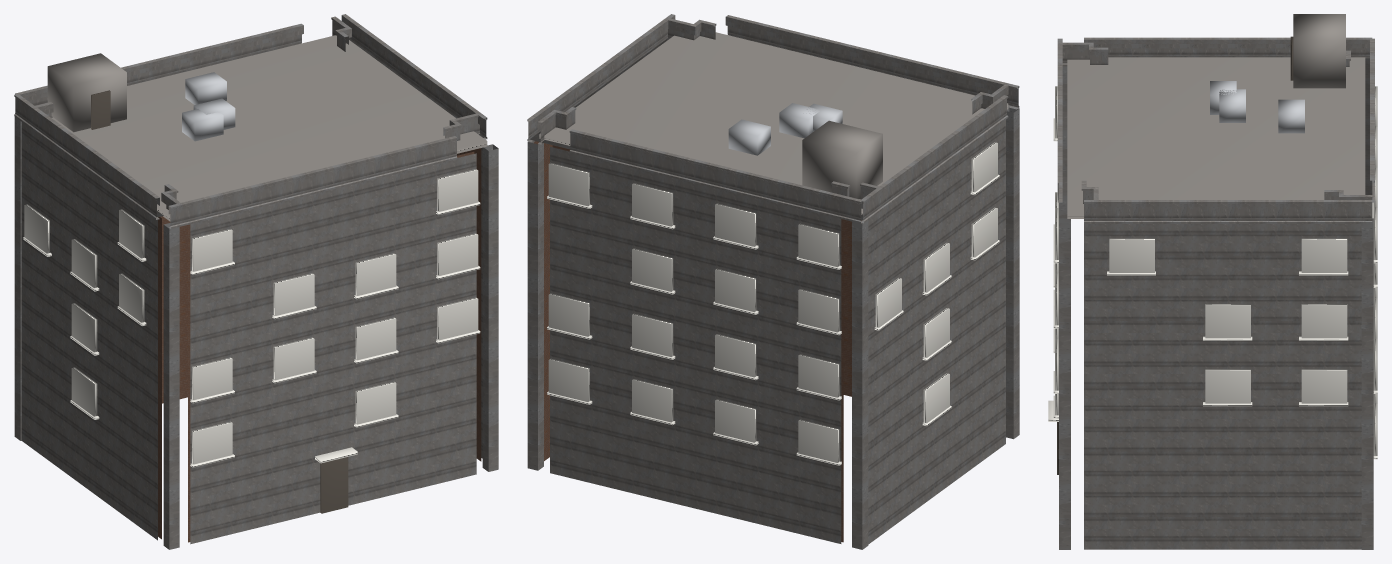
The model's file is b_tower3.gltf.
3 views of the same model, side by side, from view 1: azimuth 30°, elevation 25°; view 2: azimuth 150°, elevation 25°; view 3: azimuth 270°, elevation 25° (orthographic).
Parts seen in each view (by area): view 1: b_tower3; view 2: b_tower3; view 3: b_tower3.
Boxes of the visible parts, x1,y1,x2,y2 form: b_tower3: [14, 14, 498, 549]; b_tower3: [527, 14, 1019, 549]; b_tower3: [1048, 14, 1377, 549].
Bounding box in the file's own units: 16.48 × 17.55 × 13.7.
Materials: 9 (3 with a texture image).
